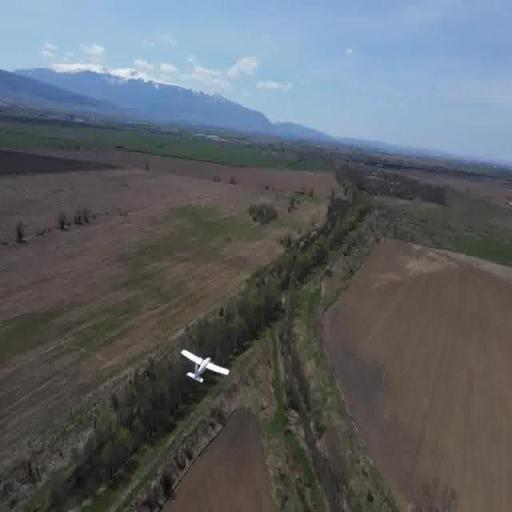uav: (178, 343, 232, 394)
